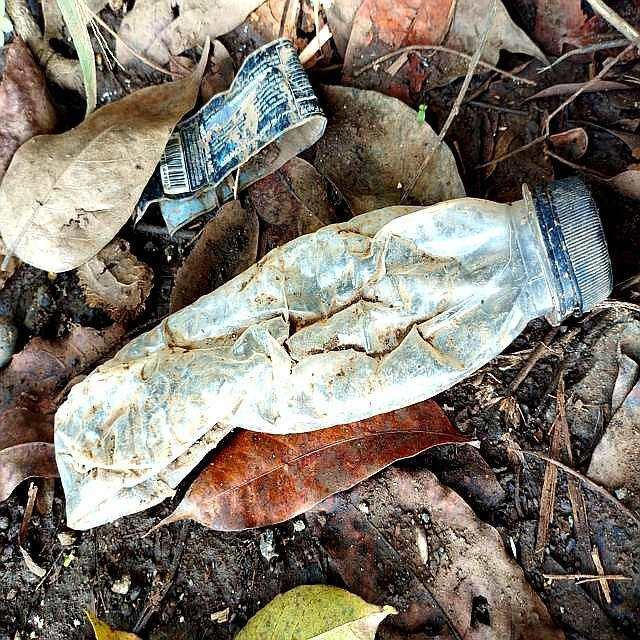Non-biodegradable: (25, 169, 629, 557)
